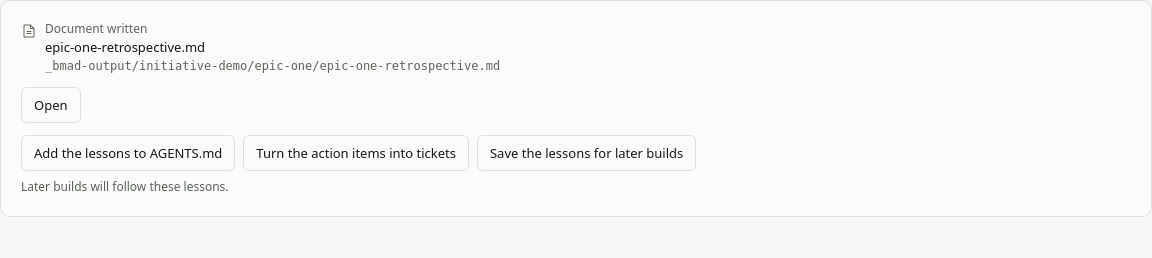
Test: a retrospective's document card (story 7.5) › Save the lessons saves once and says so; a refusal says why in the server's words
Click the button with test id "retrospective-save": [587, 154] box [477,136,696,172]
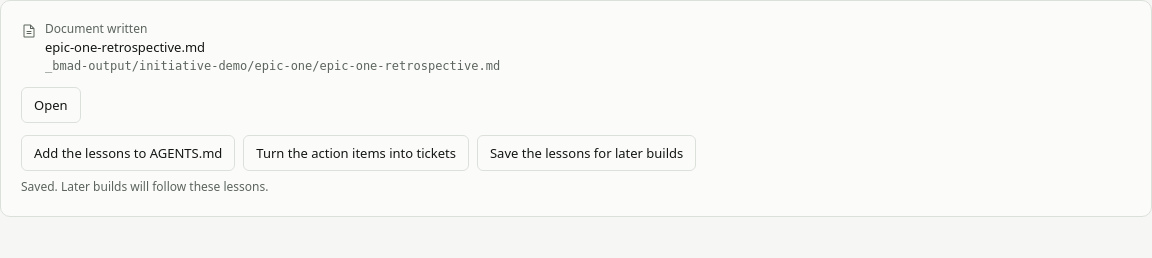
Result: the message with test id "retrospective-save-note" reads "Saved. Later builds will follow these lessons." at [21,178,268,196]
Click the button with test id "retrospective-save": [587, 154] box [477,136,696,172]
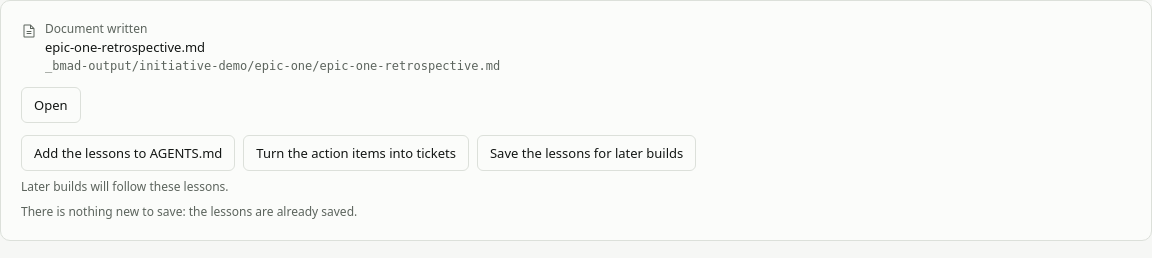
Result: the message with test id "retrospective-error" reads "There is nothing new to save: the lessons are already saved." at [21,203,357,220]
Result: the message with test id "retrospective-save-note" reads "Later builds will follow these lessons." at [21,178,229,196]
Click the button with test id "retrospective-save": [587, 154] box [477,136,696,172]
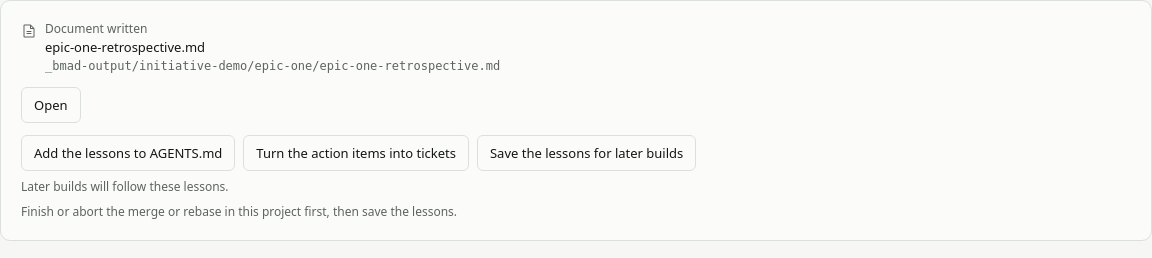
Result: the message with test id "retrospective-error" shows "Finish or abort the merge or rebase in this project first, then save the lessons." at [21,203,457,220]
